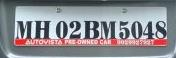0: (129, 19, 142, 39), (54, 19, 67, 38)
2: (67, 19, 81, 38)
4: (142, 19, 154, 38)
5: (117, 19, 129, 38)
8: (153, 18, 165, 38)
B: (82, 18, 98, 38)
H: (33, 18, 51, 39)
M: (13, 18, 33, 39), (98, 19, 116, 39)
